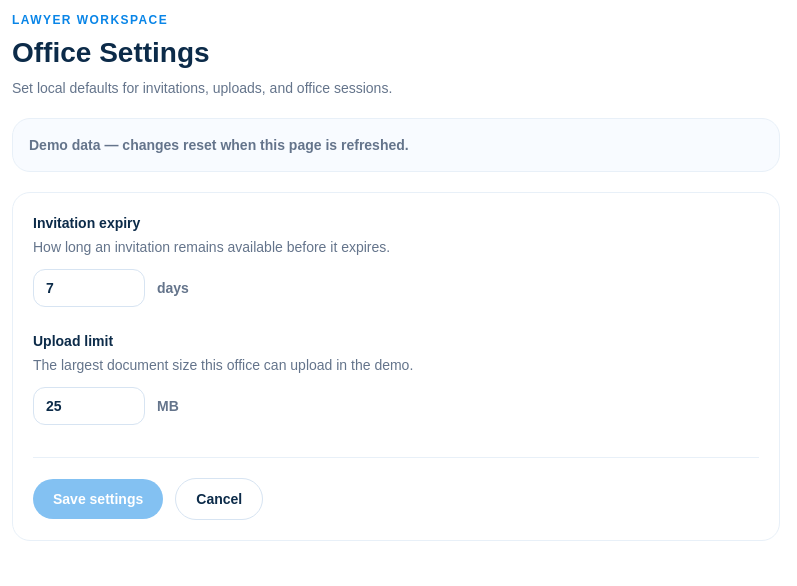
Test: OfficeSettingsPage › keeps a cleared numeric field empty while reporting its validation error
Clear the number field labelled "Invitation expiry" at (89, 288), box [33,269,145,307]
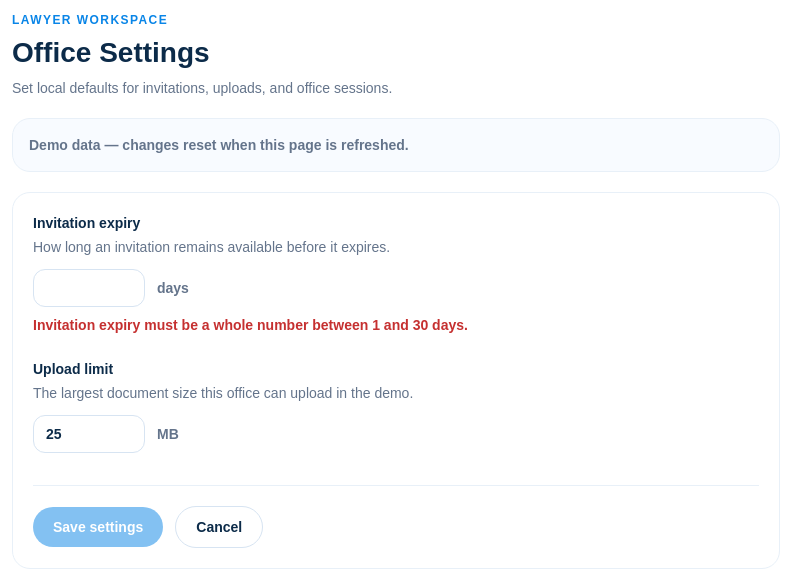
Result: the text "Invitation expiry must be a whole number" is shown at [33,317,468,333]
